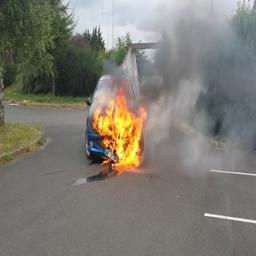fire: (92, 84, 147, 167)
